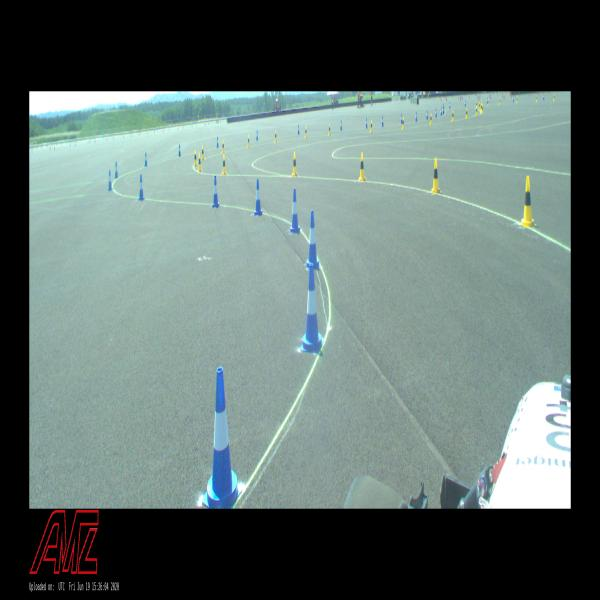blue_cone: (202, 367, 243, 509), (300, 263, 324, 353), (306, 211, 320, 270), (290, 189, 300, 234), (211, 176, 220, 208), (255, 179, 262, 215), (138, 174, 144, 200), (107, 170, 112, 190), (114, 161, 118, 178), (144, 152, 148, 166), (178, 144, 181, 156), (216, 136, 219, 148), (381, 115, 384, 126), (400, 113, 403, 124), (365, 117, 368, 128), (340, 120, 343, 130), (426, 110, 428, 120), (256, 130, 258, 140), (298, 124, 300, 134), (415, 112, 417, 121), (435, 108, 437, 117), (440, 107, 442, 115), (442, 106, 444, 114), (486, 98, 488, 104), (449, 102, 450, 109), (543, 93, 544, 100), (513, 96, 514, 102)
yellow_cone: (521, 176, 536, 227), (431, 158, 442, 193), (358, 152, 367, 181), (292, 152, 298, 176), (222, 153, 227, 175), (198, 153, 202, 171), (194, 150, 198, 166), (201, 145, 205, 160), (274, 131, 278, 142), (328, 123, 331, 136), (247, 135, 250, 147), (465, 108, 468, 118), (222, 140, 224, 153), (402, 116, 404, 129), (430, 113, 432, 125), (370, 120, 372, 132), (305, 126, 307, 138), (452, 110, 454, 121), (476, 106, 478, 116), (480, 103, 482, 112), (487, 99, 489, 106), (536, 95, 538, 102), (553, 94, 555, 101), (516, 97, 518, 103), (482, 104, 483, 114), (479, 102, 480, 110), (476, 101, 477, 109), (499, 98, 500, 105)
